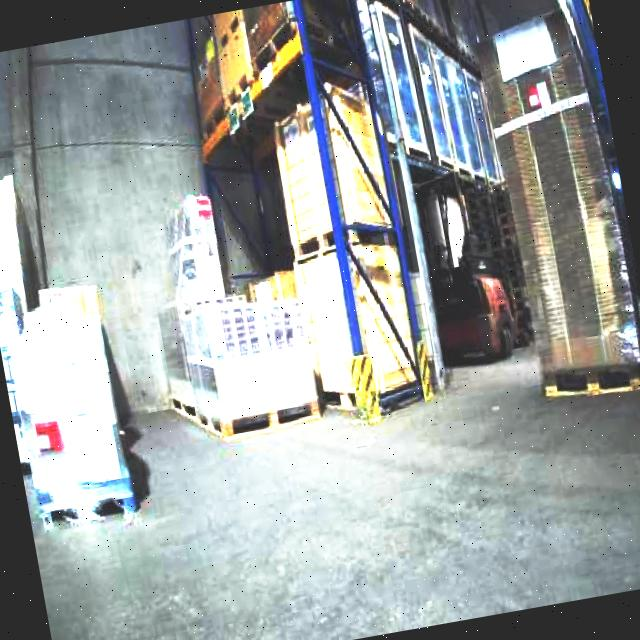ground: (14, 315, 640, 640)
pallet: (177, 0, 541, 440), (469, 4, 640, 408), (260, 73, 434, 422), (132, 177, 324, 447), (0, 278, 140, 534), (174, 286, 322, 442), (0, 276, 45, 473), (5, 374, 31, 470)
